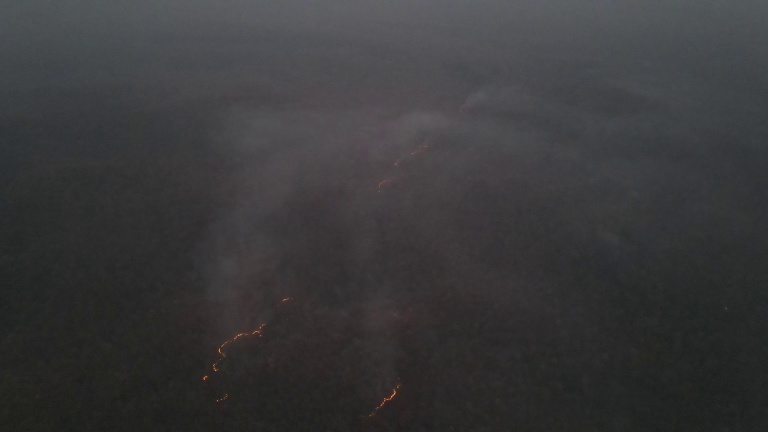fire: (203, 321, 265, 404), (364, 384, 404, 420), (391, 138, 432, 165), (369, 175, 389, 193), (278, 295, 297, 304)
smoke: (207, 112, 464, 317)
